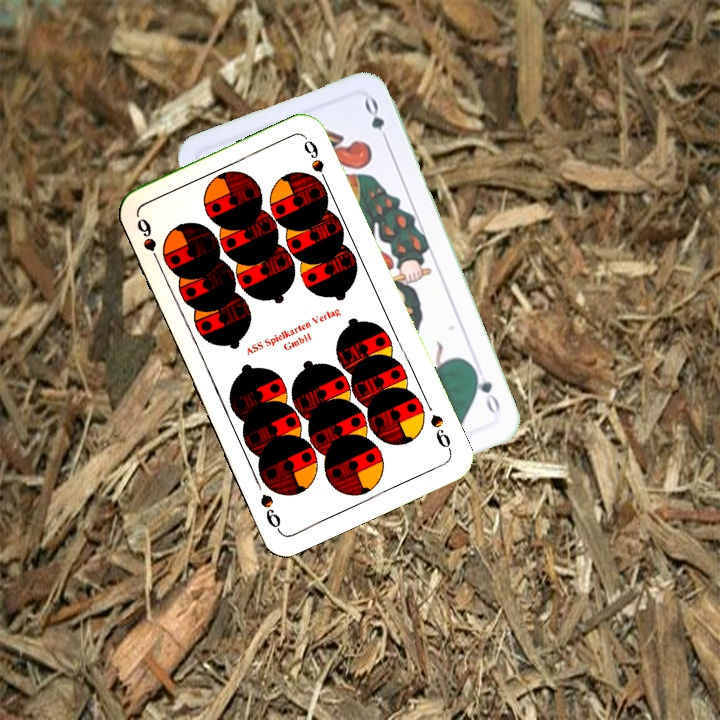GO: (469, 363, 503, 417)
S9: (132, 214, 170, 269), (426, 410, 455, 456)
